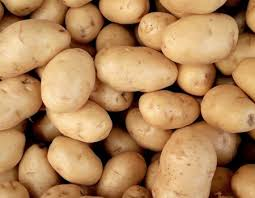potato: (148, 128, 223, 198), (165, 17, 240, 69), (95, 46, 171, 95), (0, 21, 77, 65), (43, 50, 97, 107), (51, 131, 107, 184), (202, 83, 255, 129), (101, 148, 145, 198), (135, 87, 194, 121)
